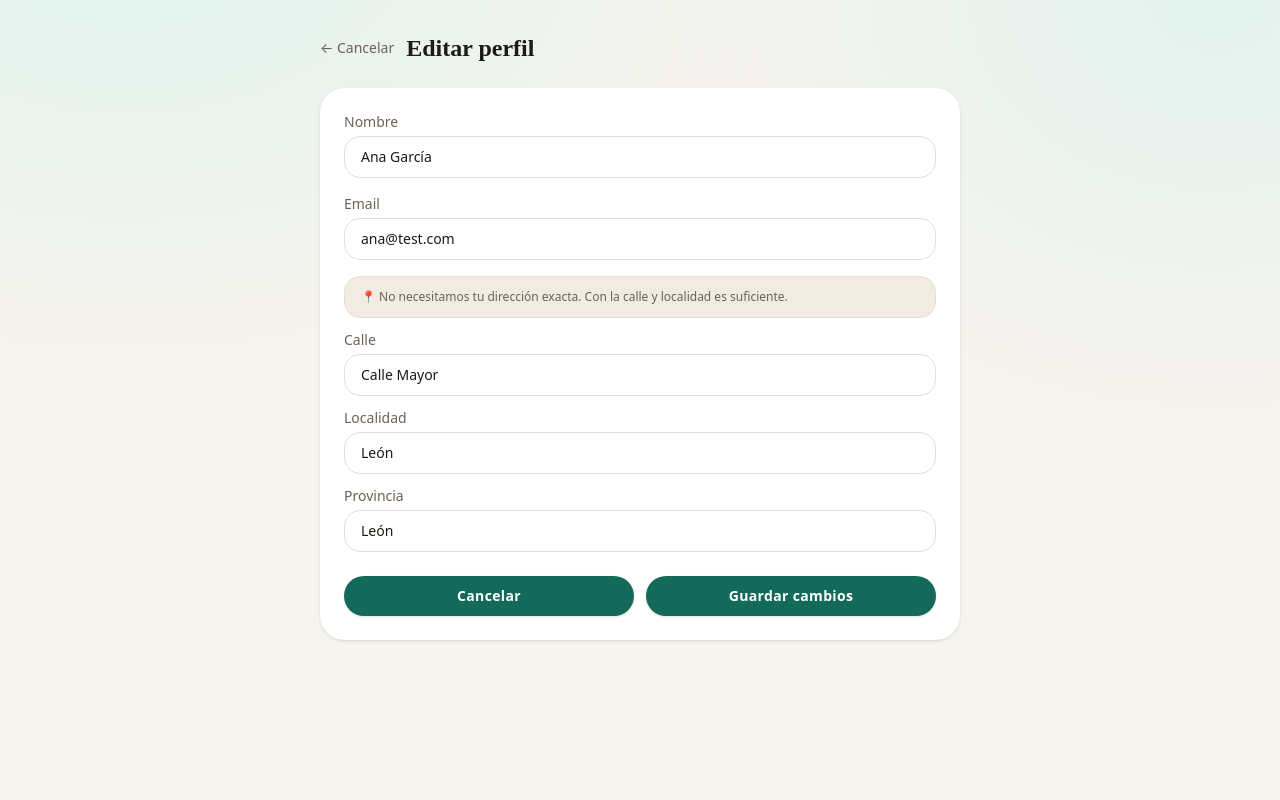
Test case: EditProfilePage › muestra error si falla el guardado
The width and height of the screenshot is (1280, 800).
Click the button "Guardar cambios".
click(791, 596)  # box [646,576,936,616]
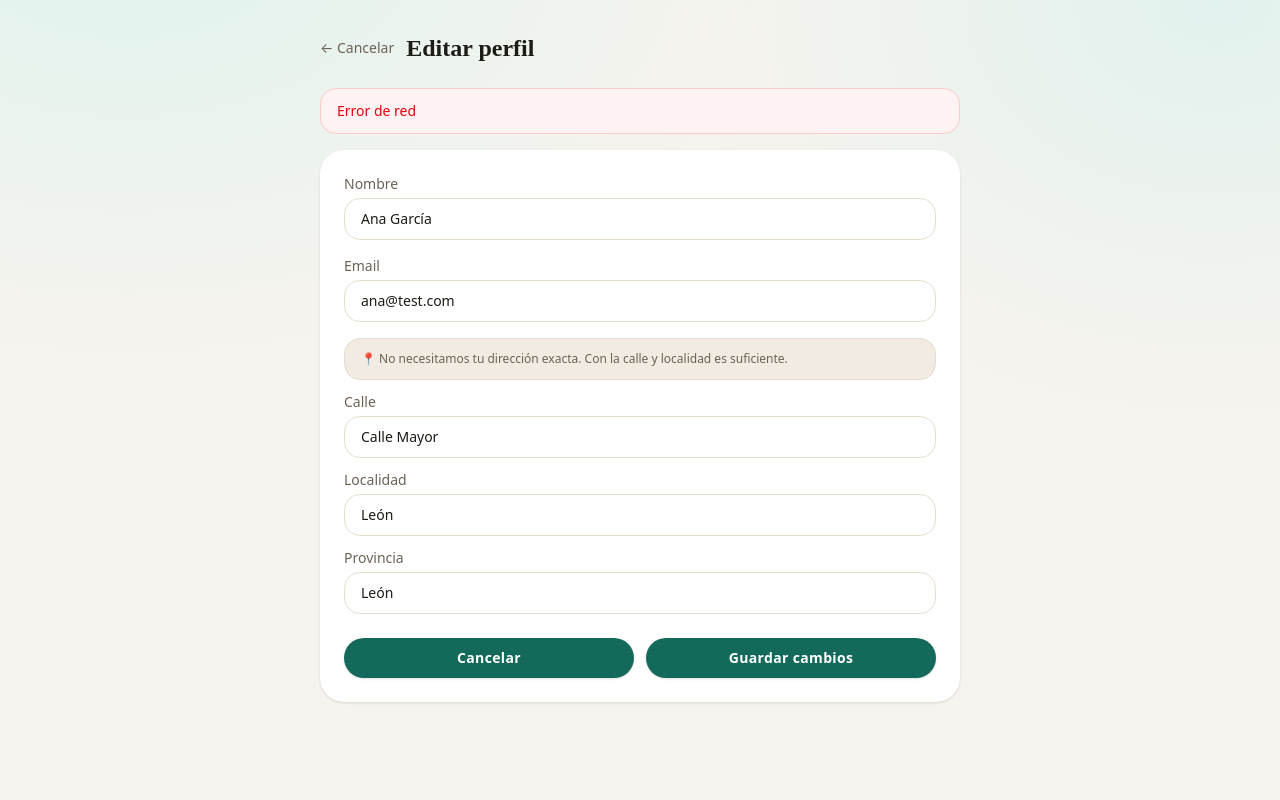
Now the text "Error de red" is shown, box [320,88,960,134]
